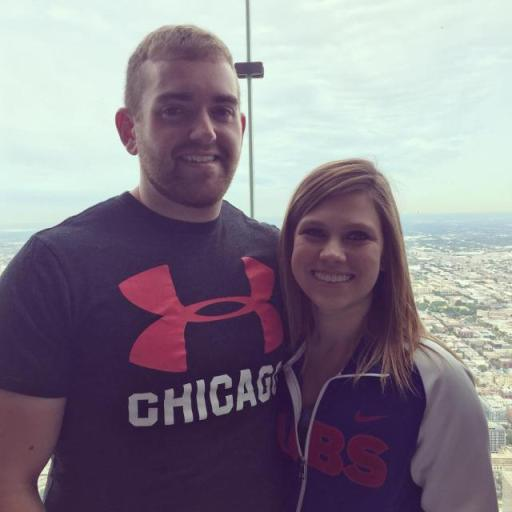Under Armour: (114, 254, 290, 374)
